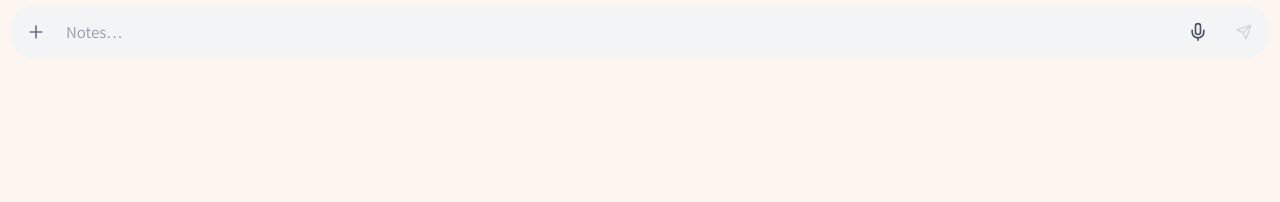
ViewingChatComposer permission onboarding › does not open our microphone dialog when permission was already denied
The image size is (1280, 202).
What coordinates should you click on to do the following:
click the button named "Recording"
I would click on:
 (1198, 32)
Its box is [1176,10,1220,54].
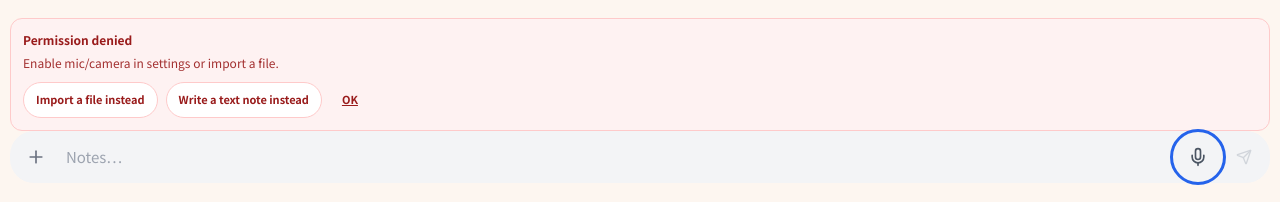
Result: the button "Import a file instead" is shown at [23,82,158,118]
